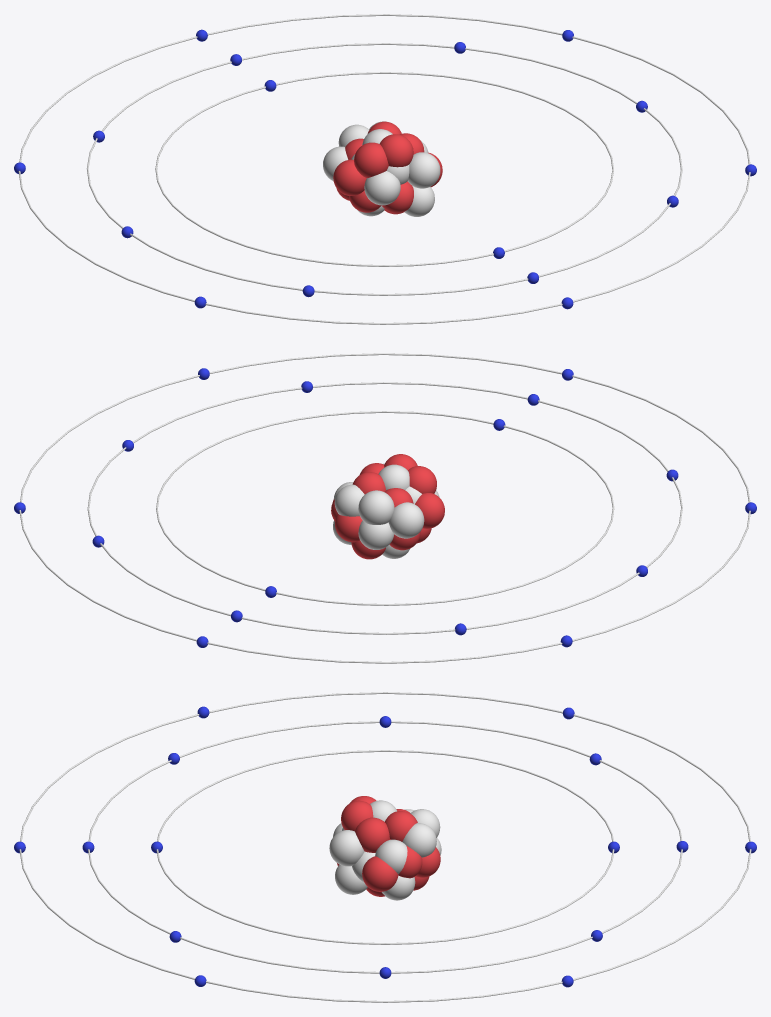
File: Schwefel.glb
3 views of the same model, one above another, from view 1: azimuth 30°, elevation 25°; view 2: azimuth 150°, elevation 25°; view 3: azimuth 270°, elevation 25° (orthographic).
Visible parts, largest first — view 1: M-Schale, L-Schale, K-Schale, Neutron 15, Neutron 13, Proton 14, Proton 16, Proton 15, Neutron 14, Proton 10; view 2: M-Schale, L-Schale, K-Schale, Neutron 9, Neutron 16, Neutron 8, Proton 16, Neutron 12, Proton 14, Neutron 11, Proton 12; view 3: M-Schale, L-Schale, K-Schale, Neutron 13, Proton 11, Proton 13, Neutron 12, Neutron 6, Proton 15, Proton 6, Neutron 14.
Part boxes in pixels (bbox=[...]): M-Schale: bbox=[18, 14, 750, 324]; L-Schale: bbox=[86, 43, 682, 295]; K-Schale: bbox=[155, 72, 613, 266]; Neutron 15: bbox=[364, 171, 400, 205]; Neutron 13: bbox=[407, 152, 440, 188]; Proton 14: bbox=[354, 142, 388, 177]; Proton 16: bbox=[333, 159, 366, 195]; Proton 15: bbox=[379, 134, 413, 167]; Neutron 14: bbox=[404, 186, 434, 216]; Proton 10: bbox=[382, 181, 413, 213]; M-Schale: bbox=[19, 353, 750, 663]; L-Schale: bbox=[87, 382, 682, 634]; K-Schale: bbox=[156, 411, 614, 605]; Neutron 9: bbox=[358, 490, 394, 524]; Neutron 16: bbox=[388, 502, 424, 538]; Neutron 8: bbox=[358, 520, 394, 549]; Proton 16: bbox=[415, 493, 444, 528]; Neutron 12: bbox=[334, 484, 364, 516]; Proton 14: bbox=[408, 466, 436, 493]; Neutron 11: bbox=[378, 464, 409, 489]; Proton 12: bbox=[335, 514, 362, 542]; M-Schale: bbox=[19, 692, 751, 1002]; L-Schale: bbox=[88, 721, 682, 973]; K-Schale: bbox=[156, 750, 614, 944]; Neutron 13: bbox=[329, 830, 364, 866]; Proton 11: bbox=[362, 856, 398, 891]; Proton 13: bbox=[355, 817, 389, 852]; Neutron 12: bbox=[402, 823, 436, 857]; Neutron 6: bbox=[375, 839, 407, 874]; Proton 15: bbox=[341, 800, 373, 831]; Proton 6: bbox=[385, 811, 417, 841]; Neutron 14: bbox=[335, 864, 367, 894].
Bounding box in the file's own units: 16.04 × 2.13 × 16.26.
